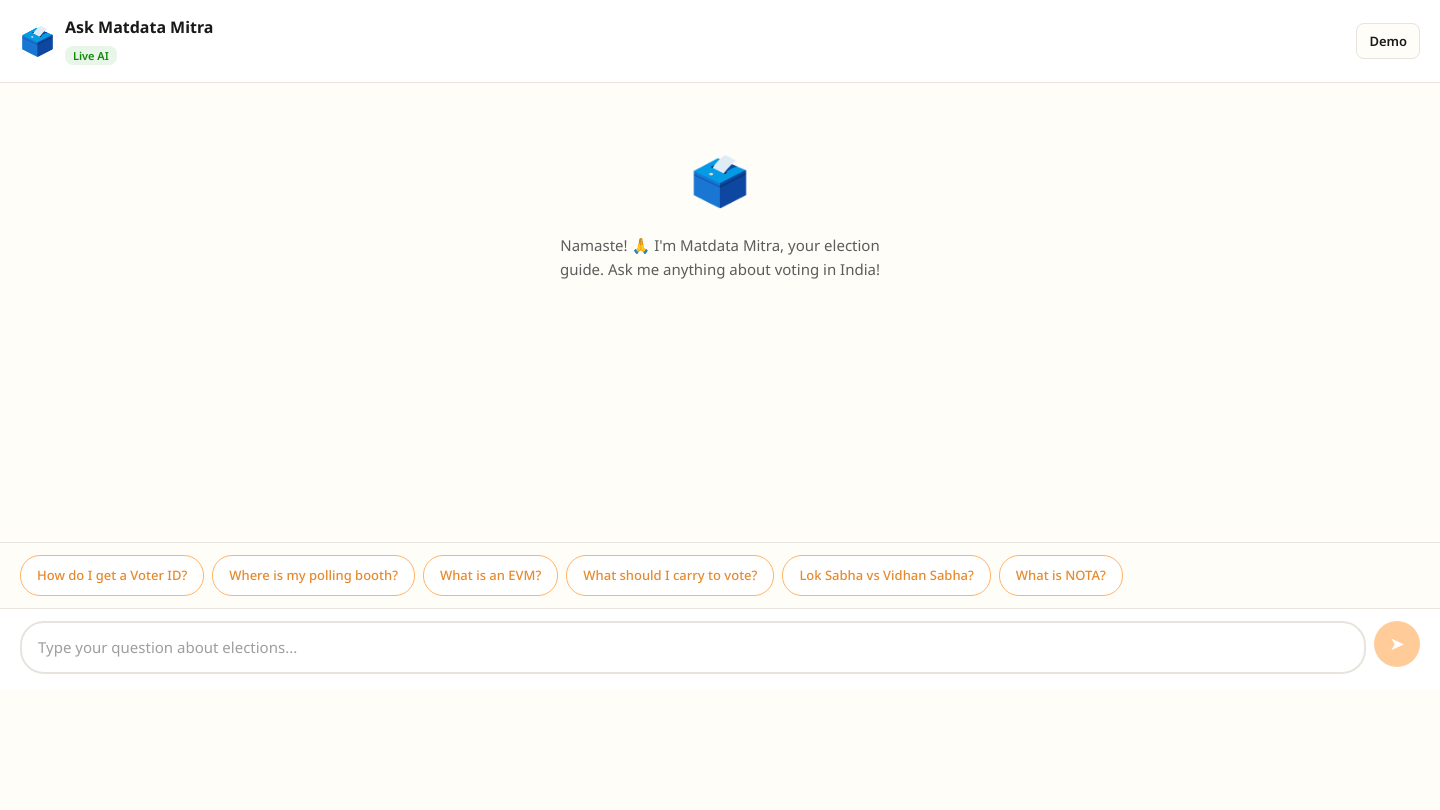
Test: Ask › enables send button when input has text
Type "test question" into the field with placeholder "Type your question about elections...".
click(693, 647); type("test question")  # box [20,620,1366,674]
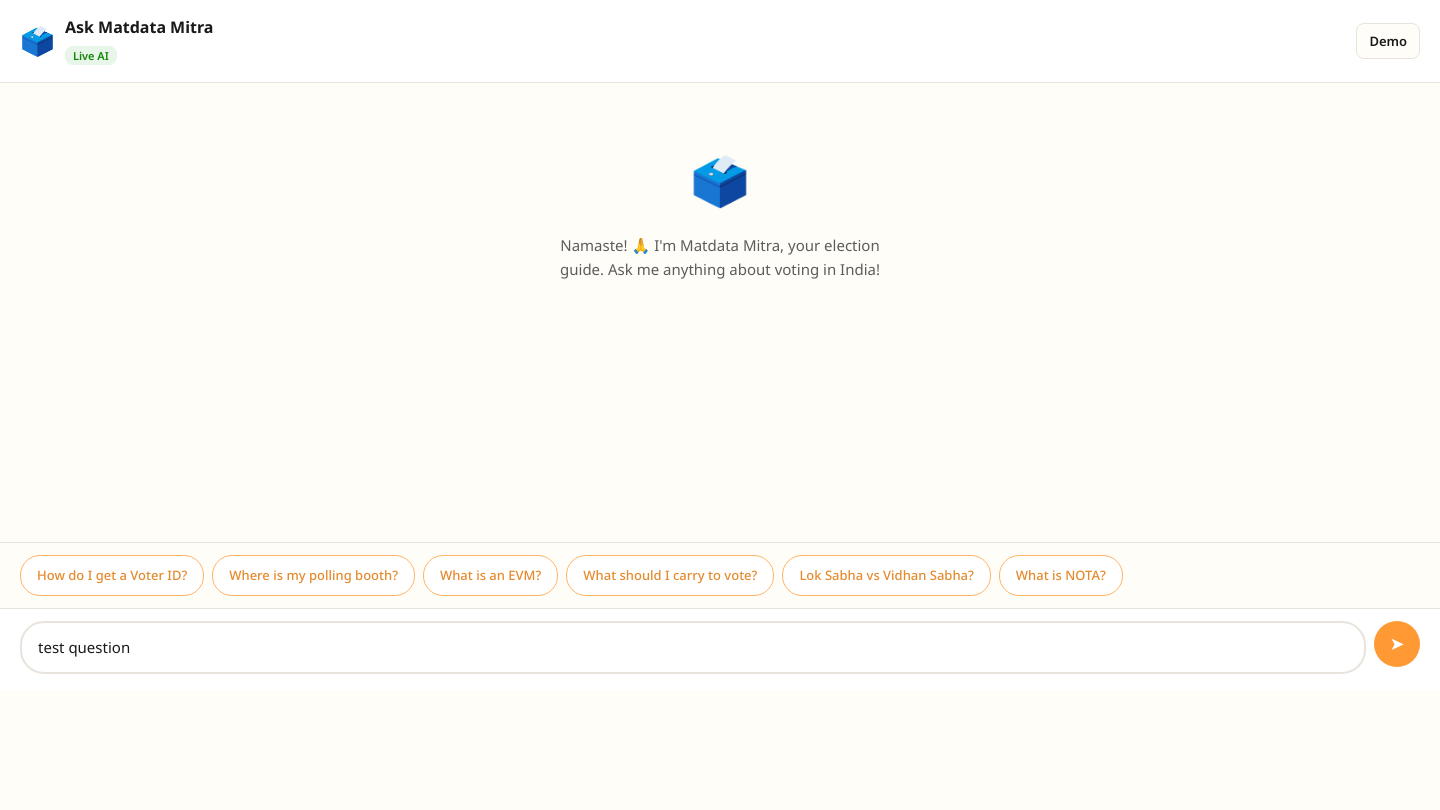
Now the button with class "chat-send-btn" is enabled, box [1374,620,1420,666]
